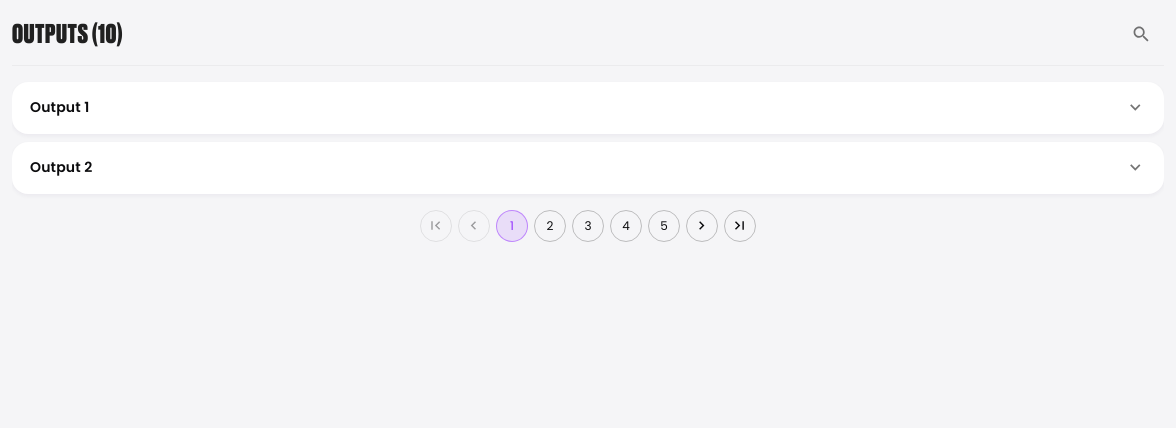
it: Outputs › shows error for invalid PayRef search
Click the button named "Show search" at [1142, 34], box [1119,12,1164,57]
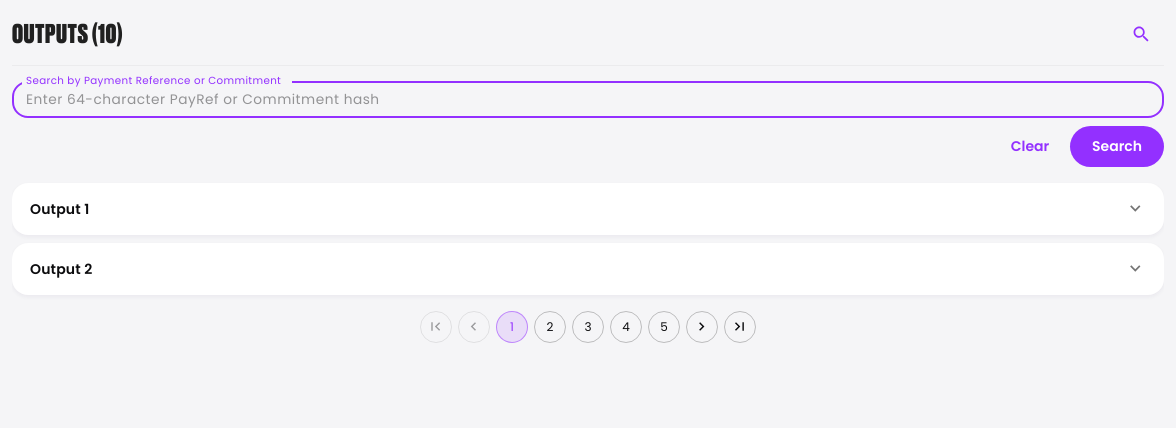
Type "short" into the field labelled "Search by Payment Reference or Commitment" at [588, 100], box [12,82,1164,118]
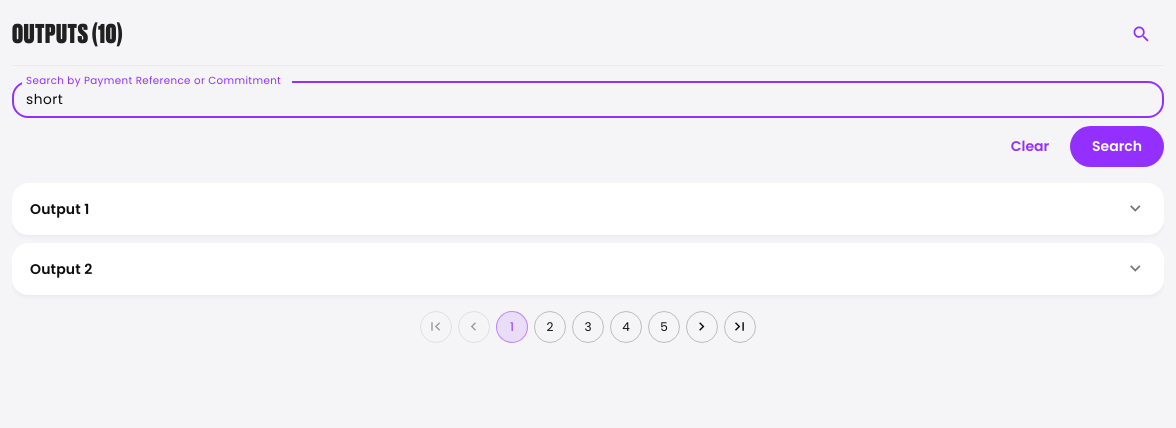
Click the button "Search" at [1117, 147], box [1070,126,1164,167]
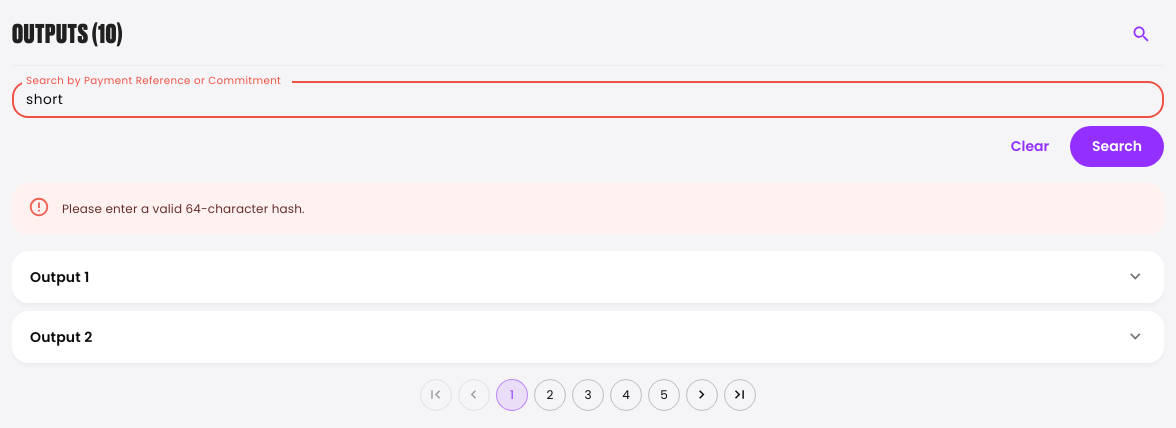
Expected: the text "Please enter a valid 64-character hash." is shown, [62,200,305,217]
